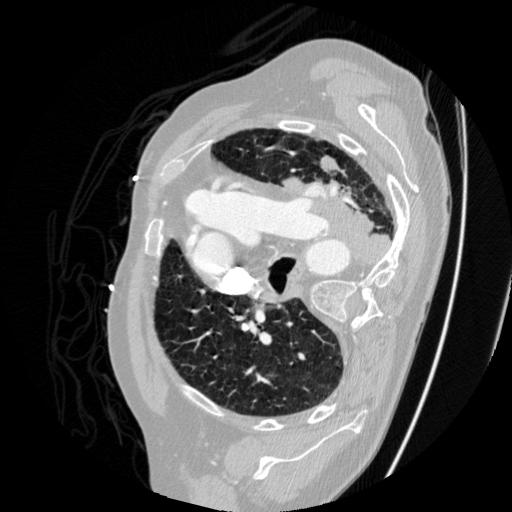nodule: (315, 152, 344, 181)
